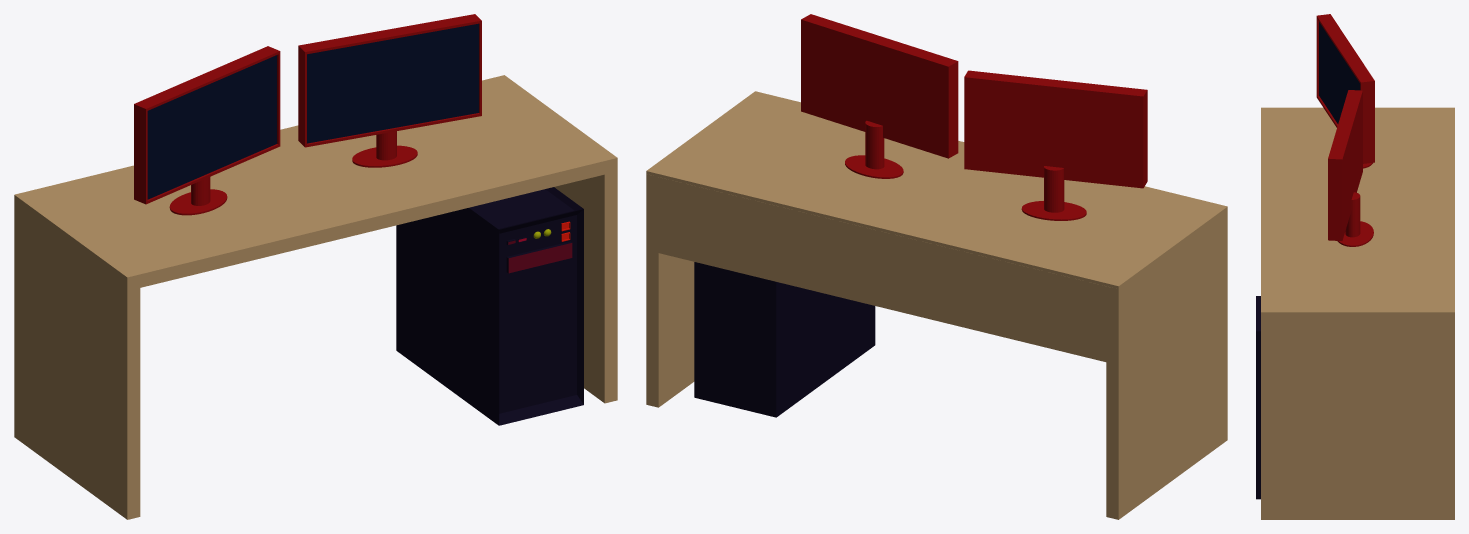
File: workplace.fbx
The picture shows the model from 3 angles, left to right: view 1: azimuth 30°, elevation 25°; view 2: azimuth 150°, elevation 25°; view 3: azimuth 270°, elevation 25°; orthographic projection. The views are drawn at different scales.
Parts seen in each view (by area): view 1: Cube.003, Куб, Цилиндр.002, Цилиндр.001, Цилиндр, Цилиндр.003, Куб.001; view 2: Cube.003, Куб, Цилиндр, Цилиндр.003; view 3: Cube.003, Цилиндр.003, Цилиндр, Цилиндр.001, Куб.
Boxes of the visible parts, <box> form: Cube.003: <box>14,75,617,519</box>; Куб: <box>396,187,583,425</box>; Цилиндр.002: <box>307,23,478,143</box>; Цилиндр.001: <box>147,55,276,199</box>; Цилиндр: <box>134,46,280,215</box>; Цилиндр.003: <box>298,14,481,167</box>; Куб.001: <box>508,221,572,273</box>; Cube.003: <box>646,91,1227,519</box>; Куб: <box>694,262,875,417</box>; Цилиндр: <box>964,70,1147,220</box>; Цилиндр.003: <box>801,14,958,178</box>; Cube.003: <box>1261,107,1454,519</box>; Цилиндр.003: <box>1328,90,1373,246</box>; Цилиндр: <box>1316,14,1374,168</box>; Цилиндр.001: <box>1319,22,1360,123</box>; Куб: <box>1256,296,1260,499</box>.
Bounding box in the file's own units: 551 × 402 × 226.
